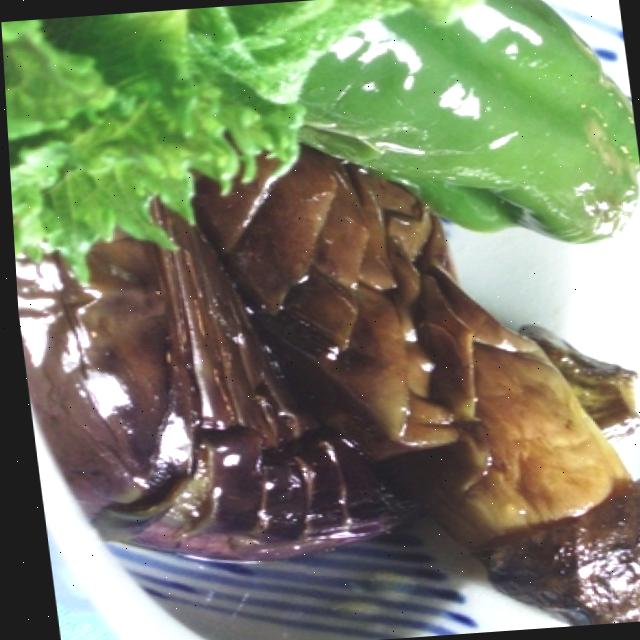鸡蛋料理: (1, 30, 640, 640)
